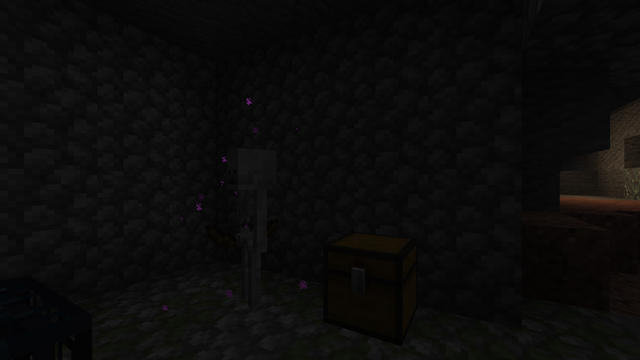squelettes: (216, 148, 282, 318)
